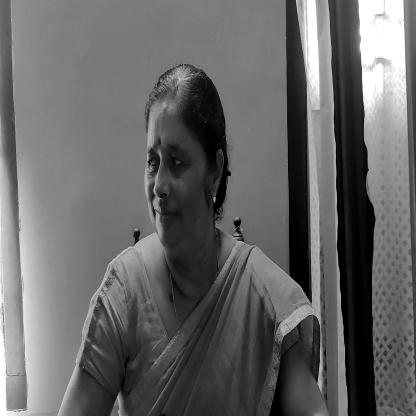Distracted: (140, 61, 228, 251)
